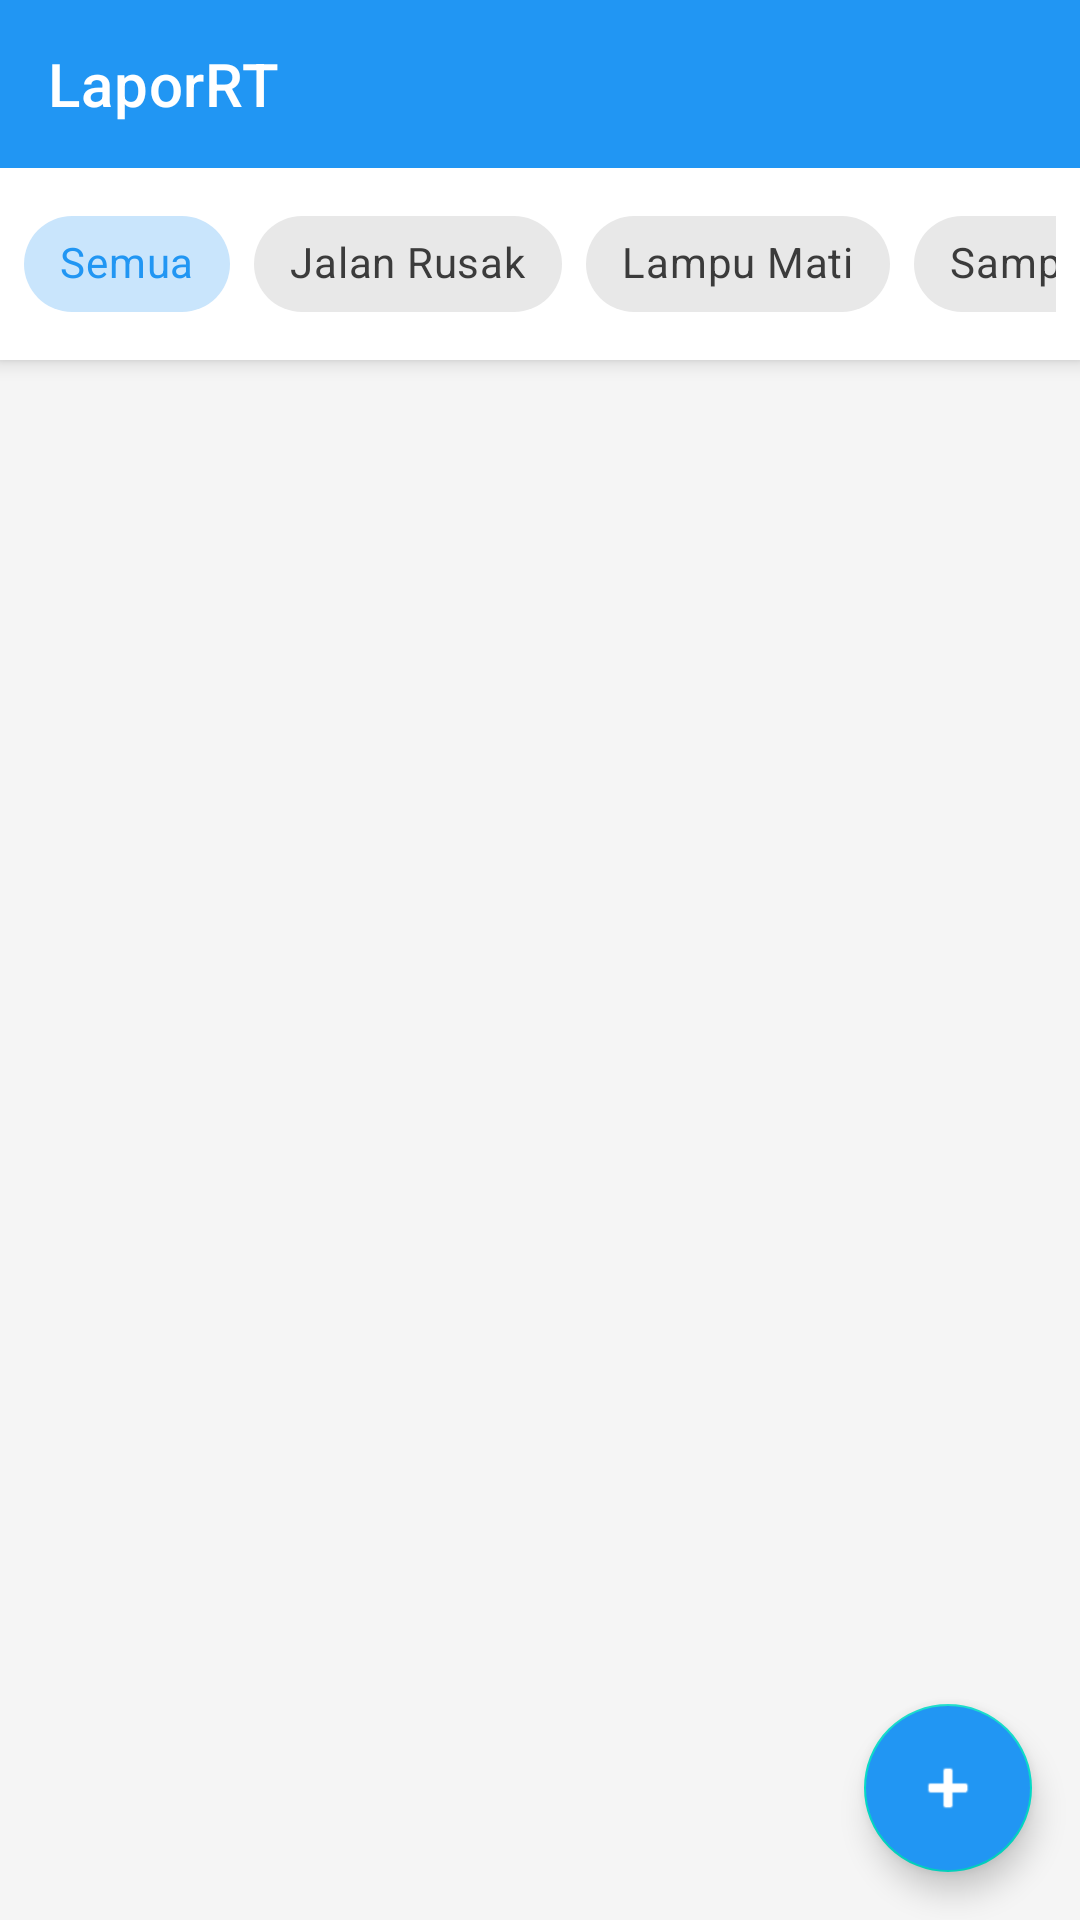

Icons on this 1080x1920 Android screen, each with its box as (left=x1, top=y1, right=x2, bottom=y2):
Buat Laporan: (left=864, top=1704, right=1032, bottom=1872)
